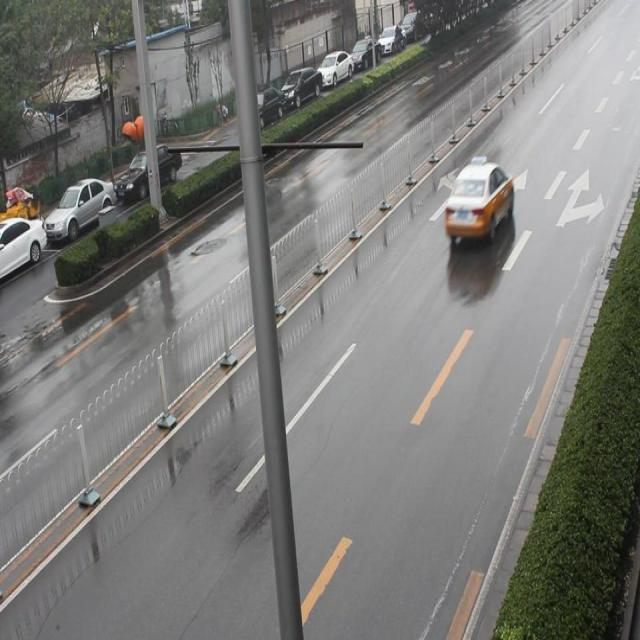car: (443, 150, 514, 252)
